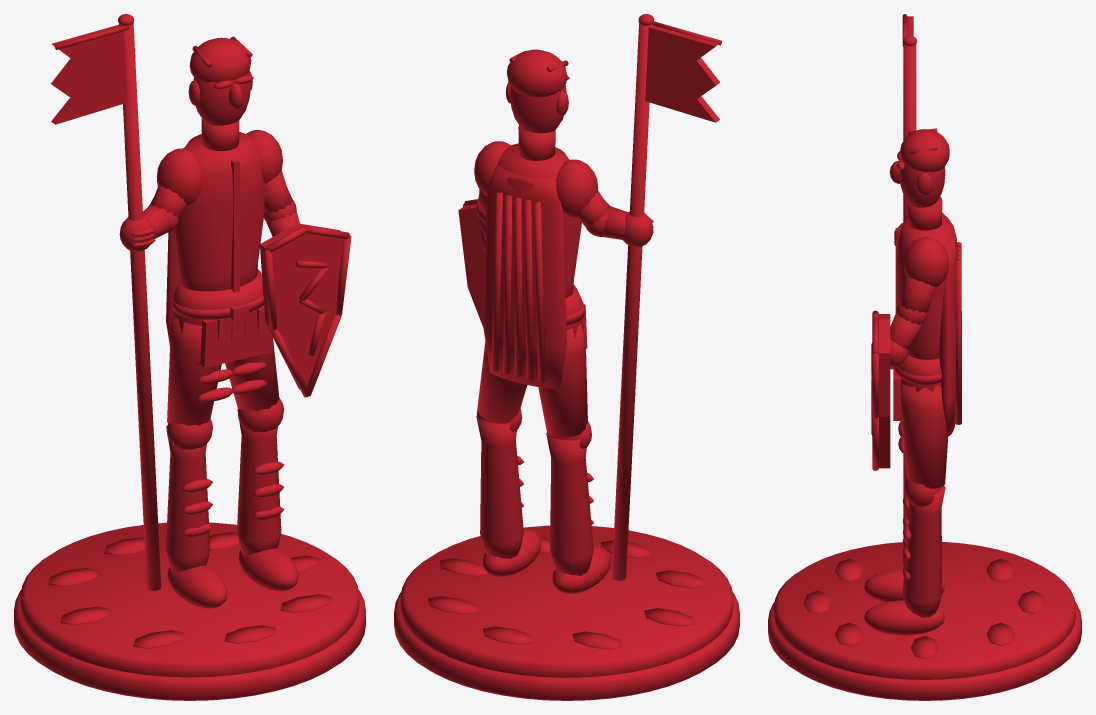
File: knight-level-3-resting.fbx
3 views of the same model, side by side, from view 1: azimuth 30°, elevation 25°; view 2: azimuth 150°, elevation 25°; view 3: azimuth 270°, elevation 25° (orthographic). The views are drawn at different scales.
Parts seen in each view (by area): view 1: Knight_Level_3_Bare_Sculpt; view 2: Knight_Level_3_Bare_Sculpt; view 3: Knight_Level_3_Bare_Sculpt.
Boxes of the visible parts, x1=… form: Knight_Level_3_Bare_Sculpt: x1=14, y1=14, x2=365, y2=700; Knight_Level_3_Bare_Sculpt: x1=394, y1=14, x2=739, y2=700; Knight_Level_3_Bare_Sculpt: x1=768, y1=14, x2=1081, y2=700.
Size of the model in its own units: 0.012 by 0.024 by 0.012.
